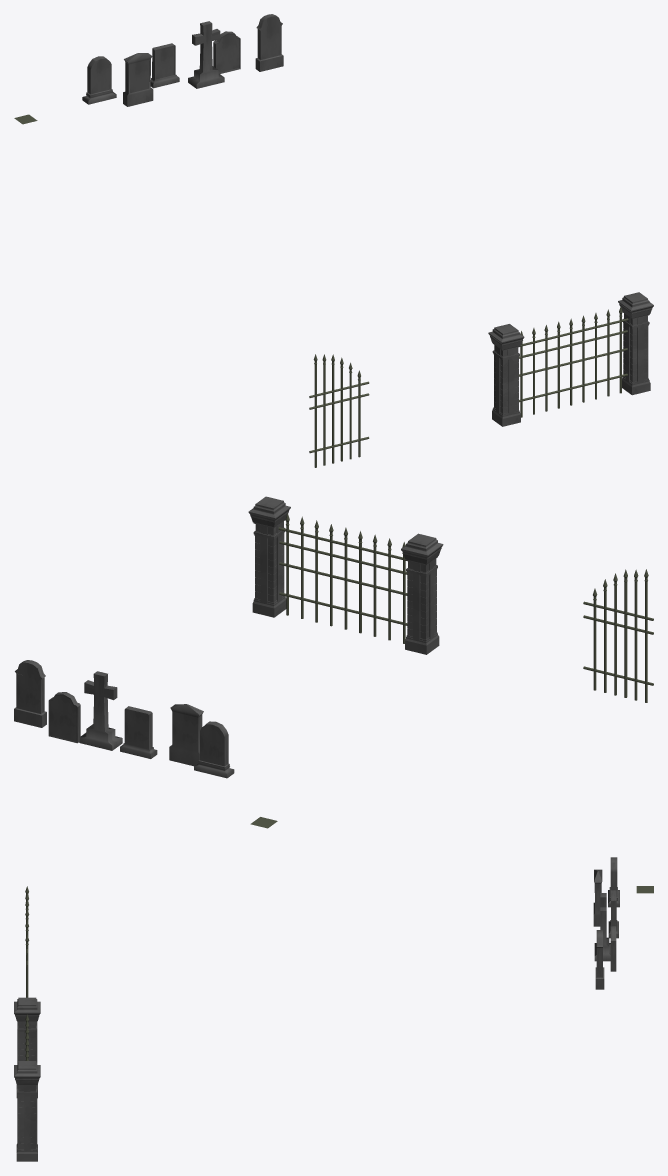
The model's file is Grave Yard.fbx.
3 renders of one model, top to bottom at view 1: azimuth 30°, elevation 25°; view 2: azimuth 150°, elevation 25°; view 3: azimuth 270°, elevation 25°, orthographic. The views are drawn at different scales.
Visible parts, largest first — view 1: Graveyard Pillar, Graveyard Fence, Gate Right FLIP FOR OTHER ONE, pCube1, pCube2, pCube3, toombstone:pCube1, toombstone:pCube3, toombstone:pCube2; view 2: Graveyard Pillar, Graveyard Fence, Gate Right FLIP FOR OTHER ONE, pCube2, pCube3, pCube1, toombstone:pCube1, toombstone:pCube2, toombstone:pCube3; view 3: Graveyard Pillar, pCube3, pCube2, pCube1.
Boxes of the visible parts, x1=… form: Graveyard Pillar: x1=488, y1=292, x2=653, y2=426; Graveyard Fence: x1=519, y1=306, x2=628, y2=417; Gate Right FLIP FOR OTHER ONE: x1=309, y1=354, x2=369, y2=467; pCube1: x1=123, y1=53, x2=153, y2=106; pCube2: x1=255, y1=14, x2=283, y2=71; pCube3: x1=188, y1=21, x2=224, y2=88; toombstone:pCube1: x1=82, y1=56, x2=116, y2=104; toombstone:pCube3: x1=150, y1=43, x2=179, y2=88; toombstone:pCube2: x1=213, y1=31, x2=240, y2=73; Graveyard Pillar: x1=248, y1=496, x2=443, y2=654; Graveyard Fence: x1=278, y1=513, x2=407, y2=643; Gate Right FLIP FOR OTHER ONE: x1=583, y1=569, x2=653, y2=702; pCube2: x1=14, y1=660, x2=46, y2=727; pCube3: x1=79, y1=671, x2=122, y2=750; pCube1: x1=169, y1=704, x2=203, y2=766; toombstone:pCube1: x1=194, y1=721, x2=234, y2=778; toombstone:pCube2: x1=48, y1=692, x2=80, y2=743; toombstone:pCube3: x1=120, y1=706, x2=157, y2=758; Graveyard Pillar: x1=14, y1=997, x2=40, y2=1161; pCube3: x1=594, y1=893, x2=610, y2=961; pCube2: x1=595, y1=930, x2=604, y2=989; pCube1: x1=593, y1=869, x2=602, y2=926.
Bounding box in the file's own units: 4494 × 2430 × 7341.
